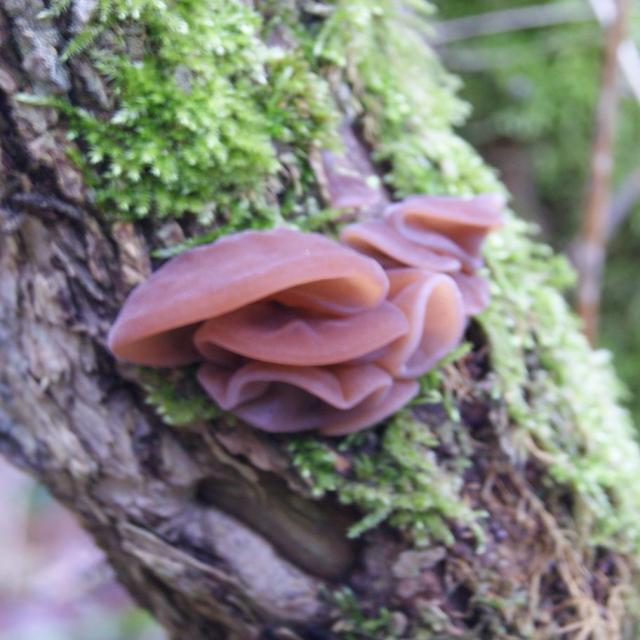Auricularia auricula: (106, 191, 496, 430)
